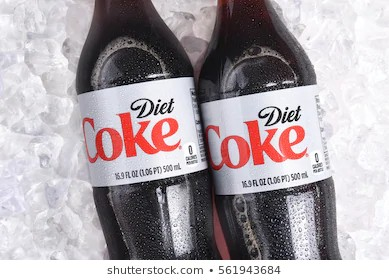coke-diet/zero-bottle-700ml: (212, 1, 328, 262), (96, 1, 206, 259)
